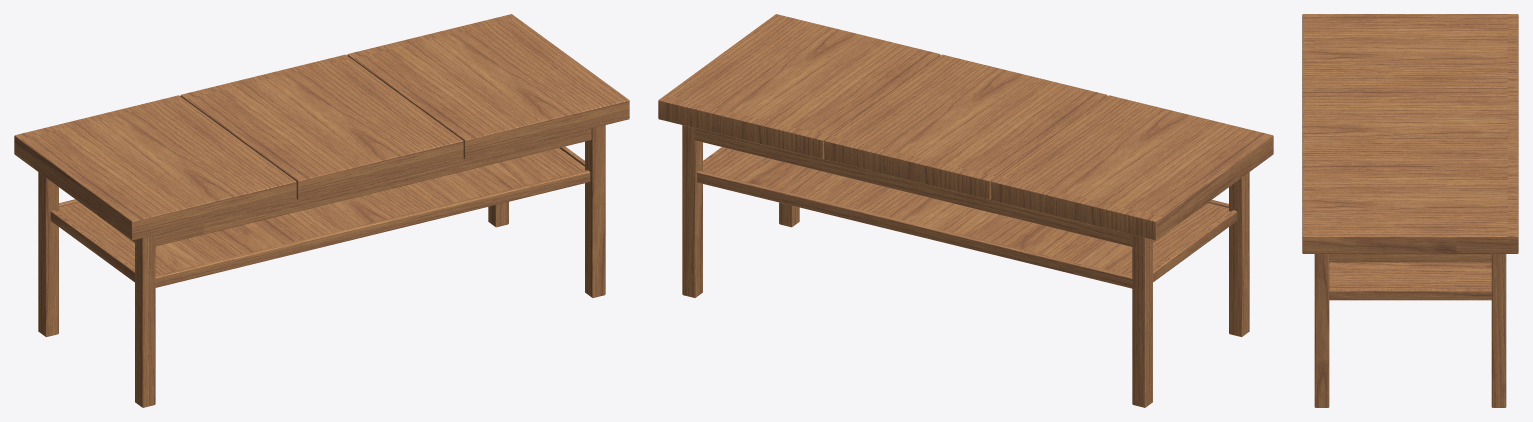
Rendered from SM_table_artroom.fbx.
3 renders of one model, left to right at view 1: azimuth 30°, elevation 25°; view 2: azimuth 150°, elevation 25°; view 3: azimuth 270°, elevation 25°, orthographic. The views are drawn at different scales.
Parts seen in each view (by area): view 1: table02; view 2: table02; view 3: table02.
Boxes of the visible parts, left/top/right/bottom form: table02: left=14, top=14, right=629, bottom=407; table02: left=658, top=14, right=1273, bottom=407; table02: left=1302, top=14, right=1518, bottom=407.
Size of the model in its own units: 95.15 by 35.8 by 39.04.
1 material, 1 textured.
